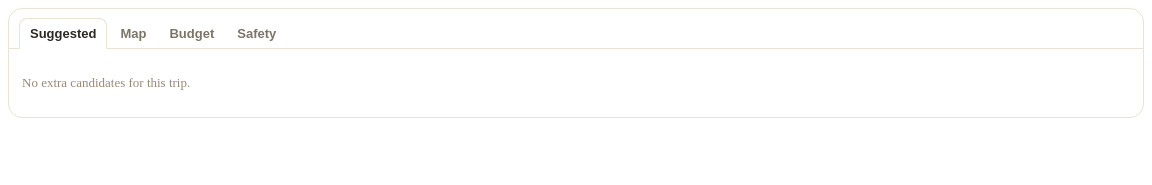
Test case: Safety tab renders planning_note (guide-recommendation text) › an L4 leg with the armed-conflict-specific note renders correctly
Click the button "Safety": click(257, 33) [227,18,286,48]
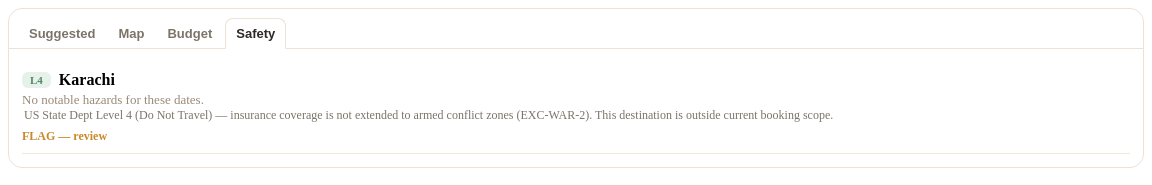
Now the text with test id "planning-note" is shown, box [24,108,833,122]
